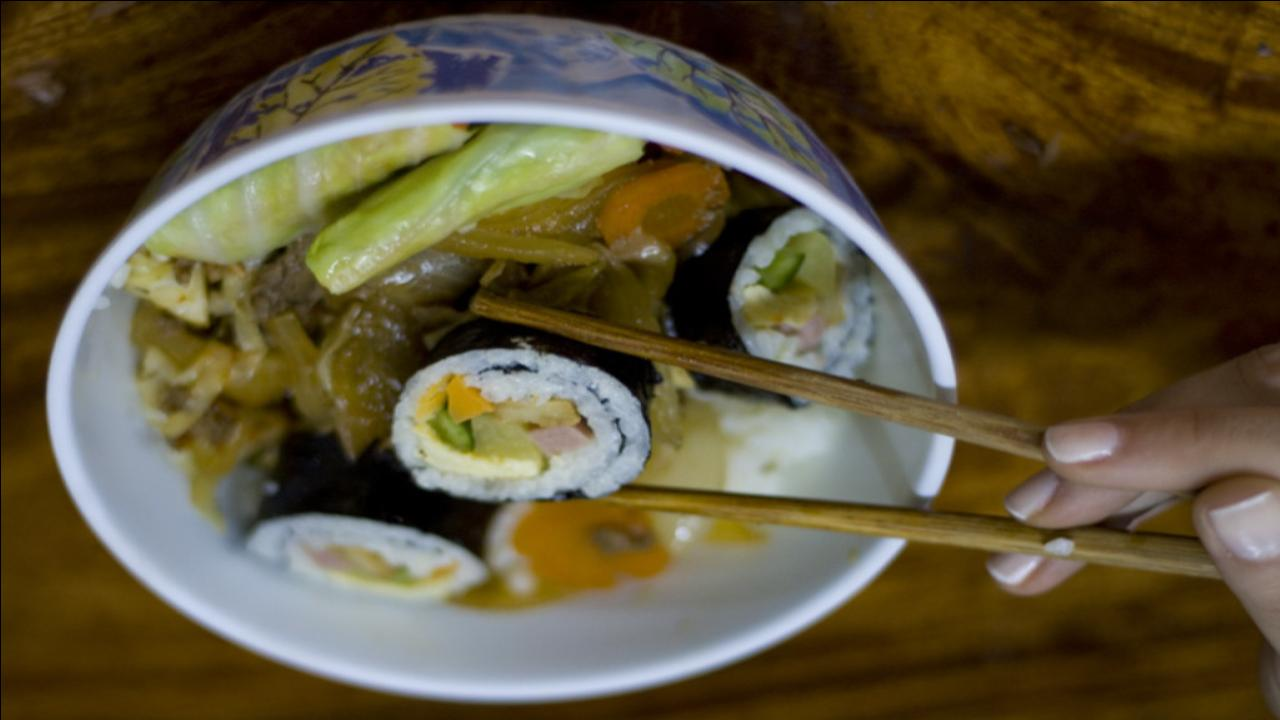chopstick: (469, 288, 1279, 581)
